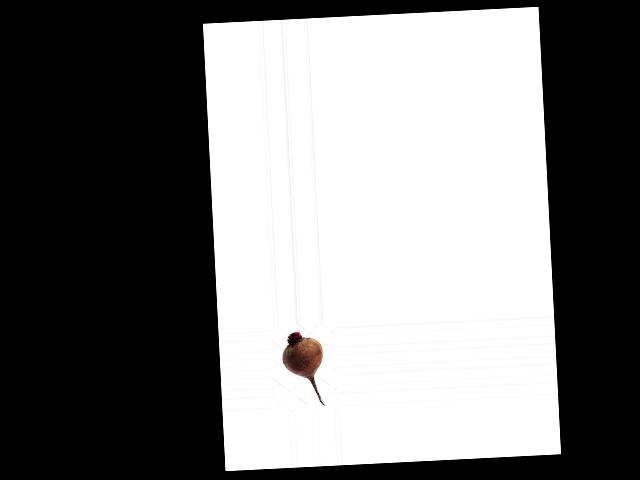beet: (280, 331, 325, 407)
